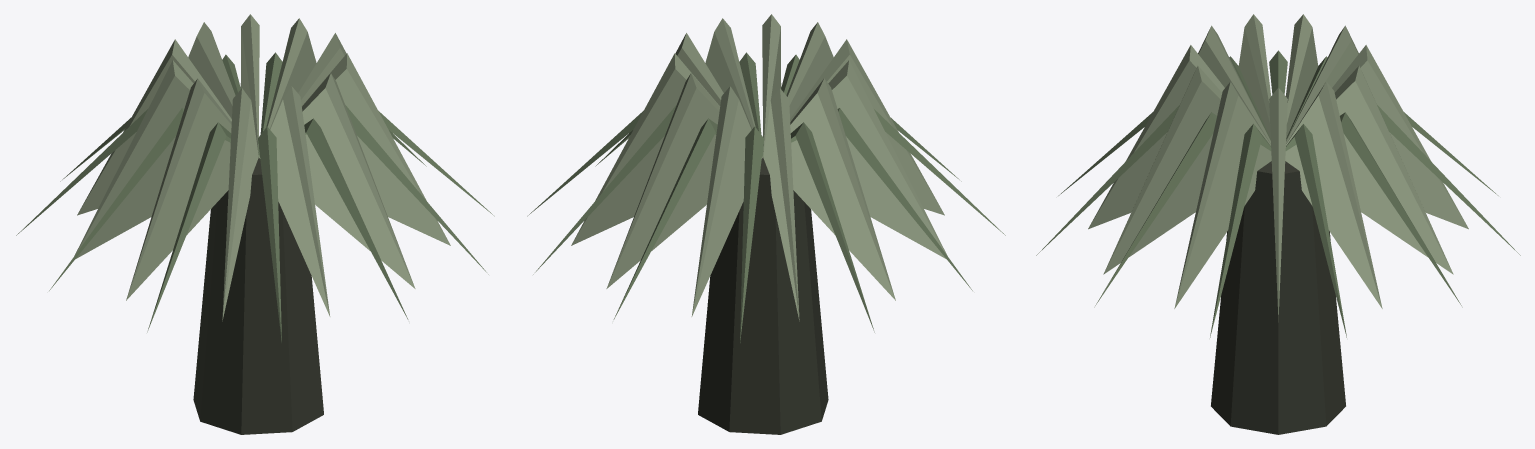
File: prop-grass-tree.glb
3 renders of one model, left to right at view 1: azimuth 30°, elevation 25°; view 2: azimuth 150°, elevation 25°; view 3: azimuth 270°, elevation 25°, orthographic.
Visible parts, largest first — view 1: grass-tree; view 2: grass-tree; view 3: grass-tree.
Part boxes in pixels (<box>): grass-tree: <box>16,14,494,434</box>; grass-tree: <box>527,14,1005,434</box>; grass-tree: <box>1036,14,1520,434</box>.
Bounding box in the file's own units: 0.921 × 0.755 × 0.9304.
